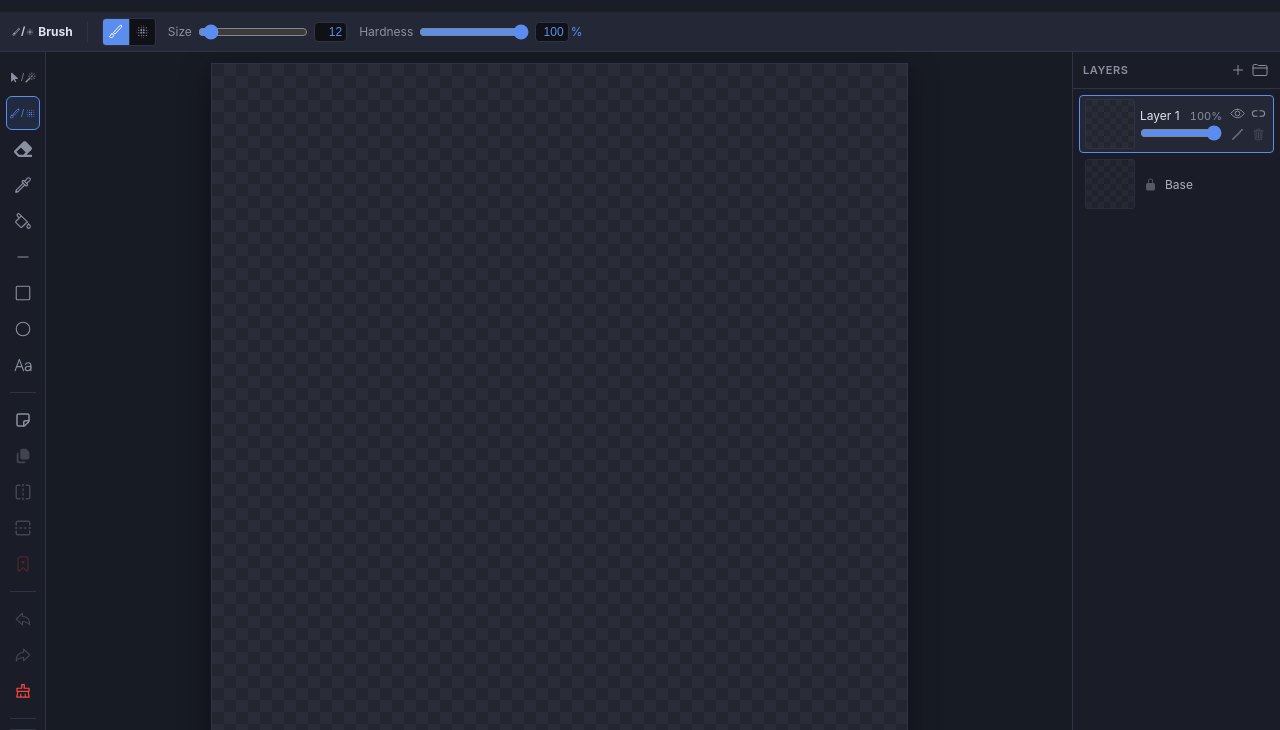
layer panel — structure › adds a layer above the active one and makes it active
The image size is (1280, 730).
Click the button named "New Layer" at (1238, 70), box [1228, 60, 1248, 80]
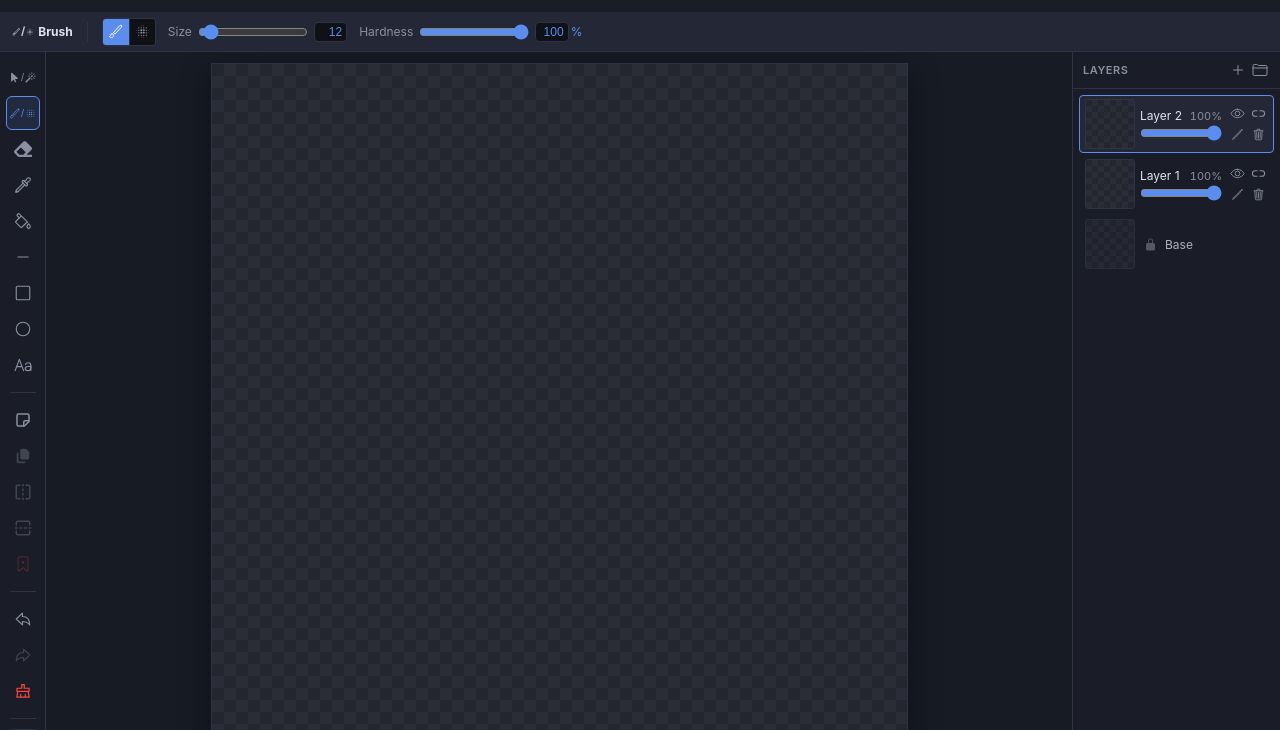
Result: the text "Layer 2" is shown at [1140, 108, 1184, 122]
Result: the button named "Delete layer" below "Layer 2" is enabled at [1248, 124, 1268, 144]
